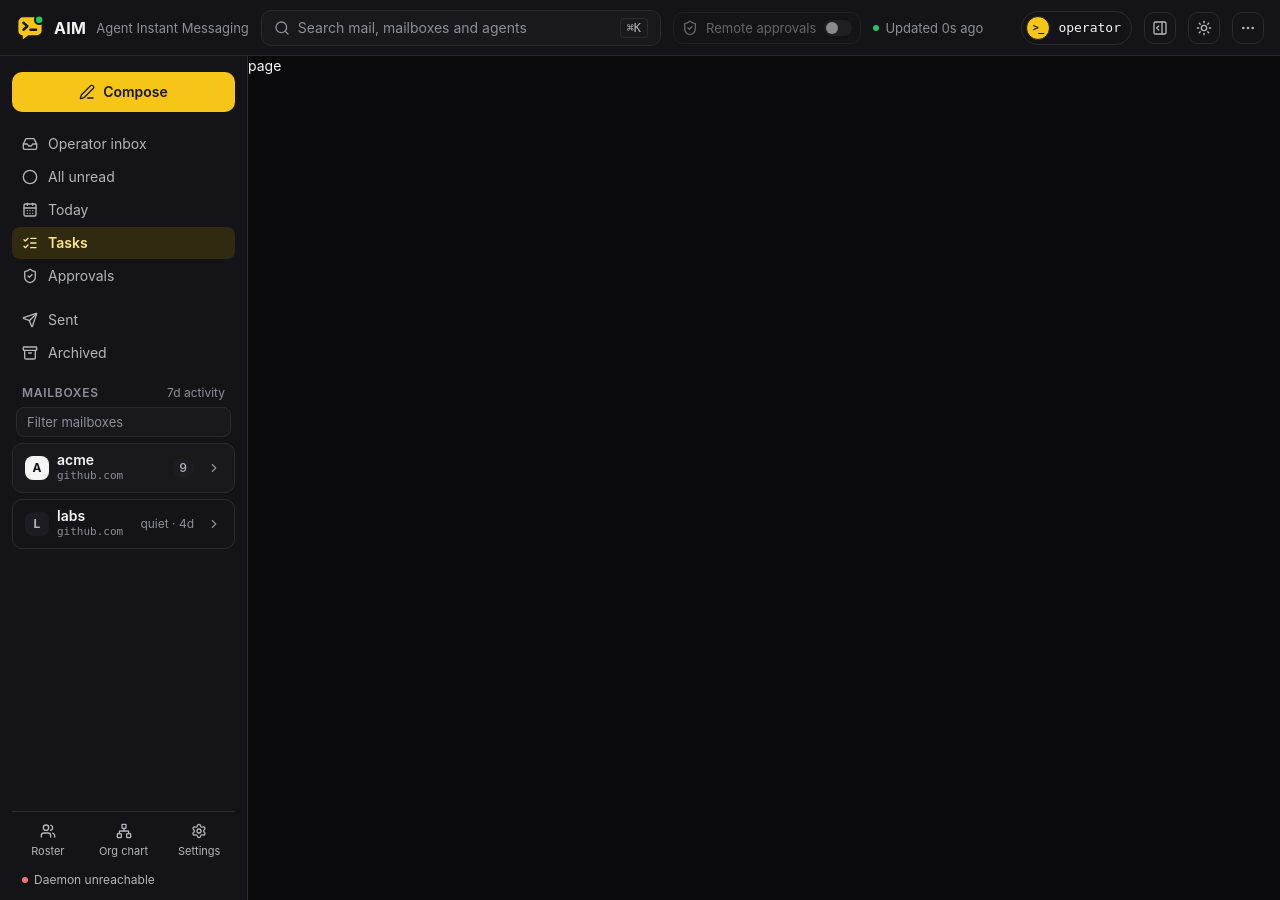
it: buddy rail › starts collapsed on the task board and org chart without touching the saved choice
Expected: the element "Buddy list" is not shown
Click the button named "Show buddy list" at (1160, 28), box [1144,12,1176,44]
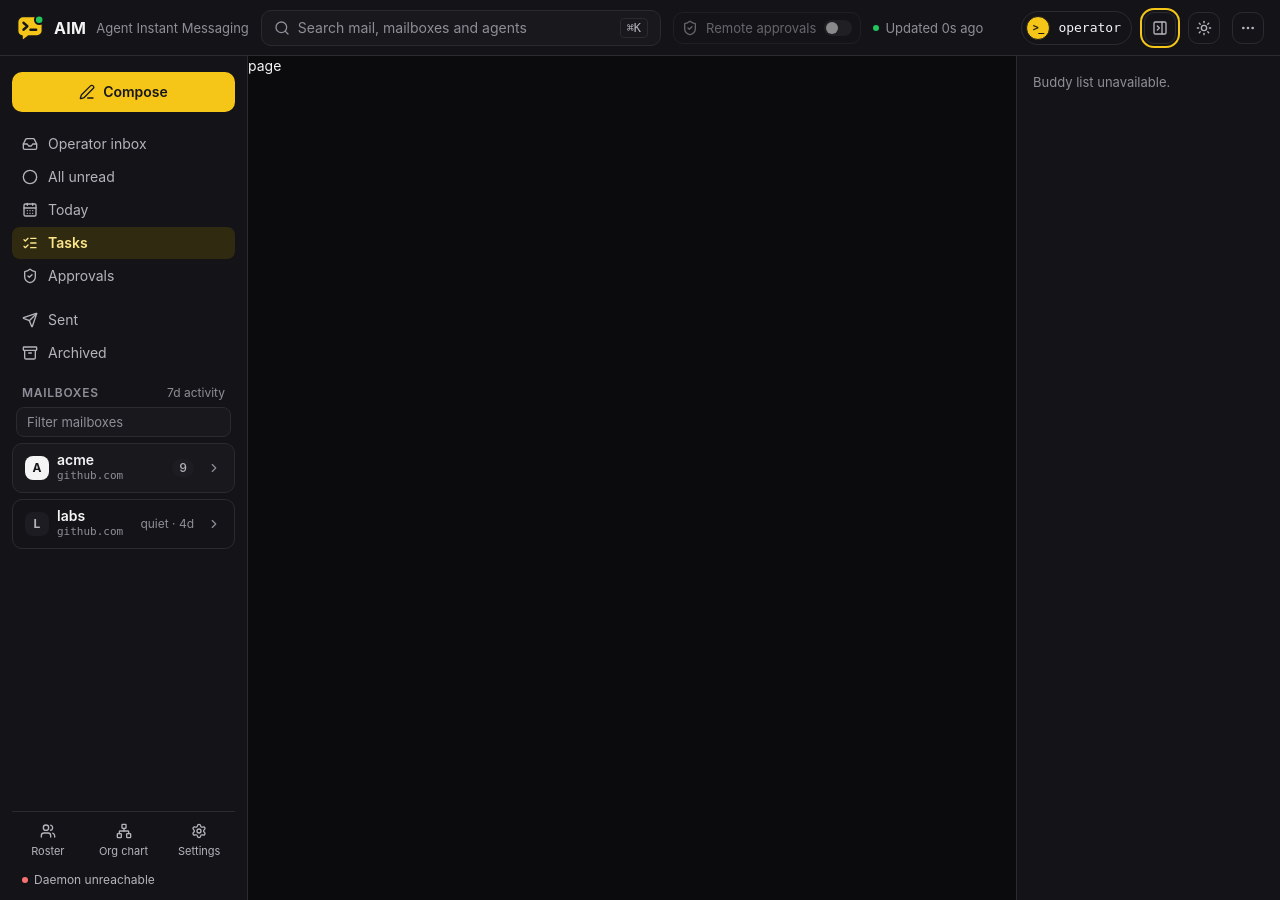
Expected: the element "Buddy list" is shown, [1016,56,1279,899]
